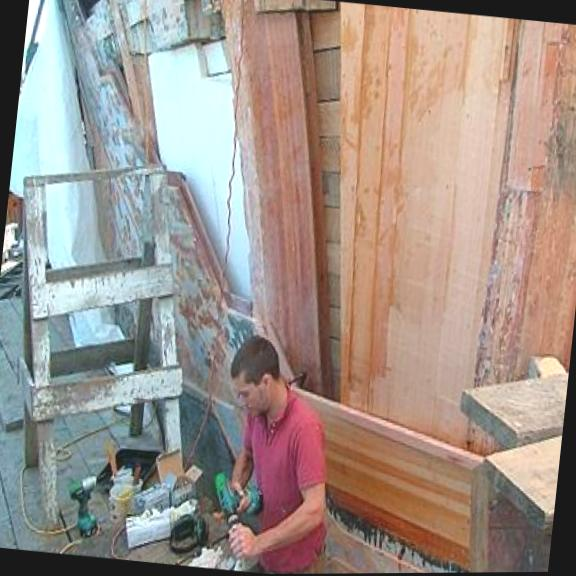no_safety_vest: (237, 388, 335, 548)
